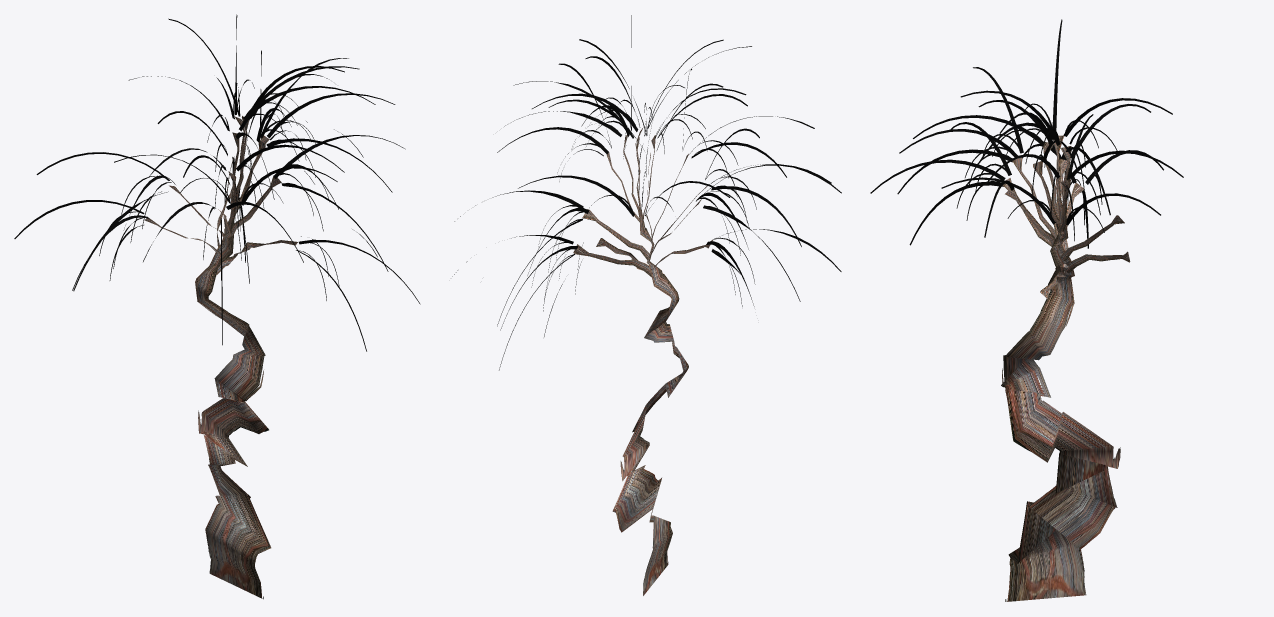
Rendered from crazy_tree_01.obj.
The picture shows the model from 3 angles, left to right: view 1: azimuth 30°, elevation 25°; view 2: azimuth 150°, elevation 25°; view 3: azimuth 270°, elevation 25°; orthographic projection. The views are drawn at different scales.
Visible parts, largest first — view 1: crazy_tree_01; view 2: crazy_tree_01; view 3: crazy_tree_01.
Boxes of the visible parts, left/top/right/bottom form: crazy_tree_01: left=14, top=14, right=420, bottom=599; crazy_tree_01: left=452, top=15, right=841, bottom=595; crazy_tree_01: left=870, top=19, right=1183, bottom=601.
Bounding box in the file's own units: 14.74 × 22.65 × 14.57.
2 materials, 1 textured.
